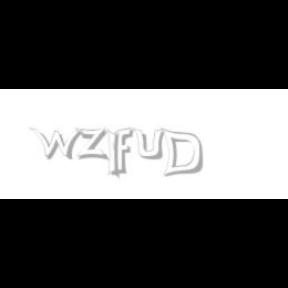D: (160, 128, 204, 178)
I: (108, 128, 120, 180)
f: (113, 128, 137, 174)
u: (134, 128, 168, 160)
w: (30, 128, 88, 160)
z: (75, 128, 111, 160)
